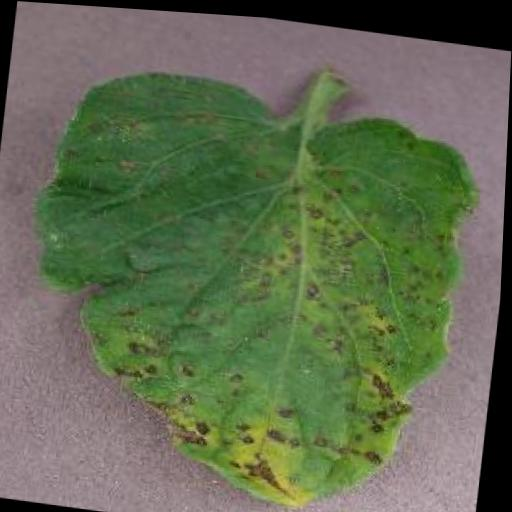Septoria: (14, 53, 490, 512)
